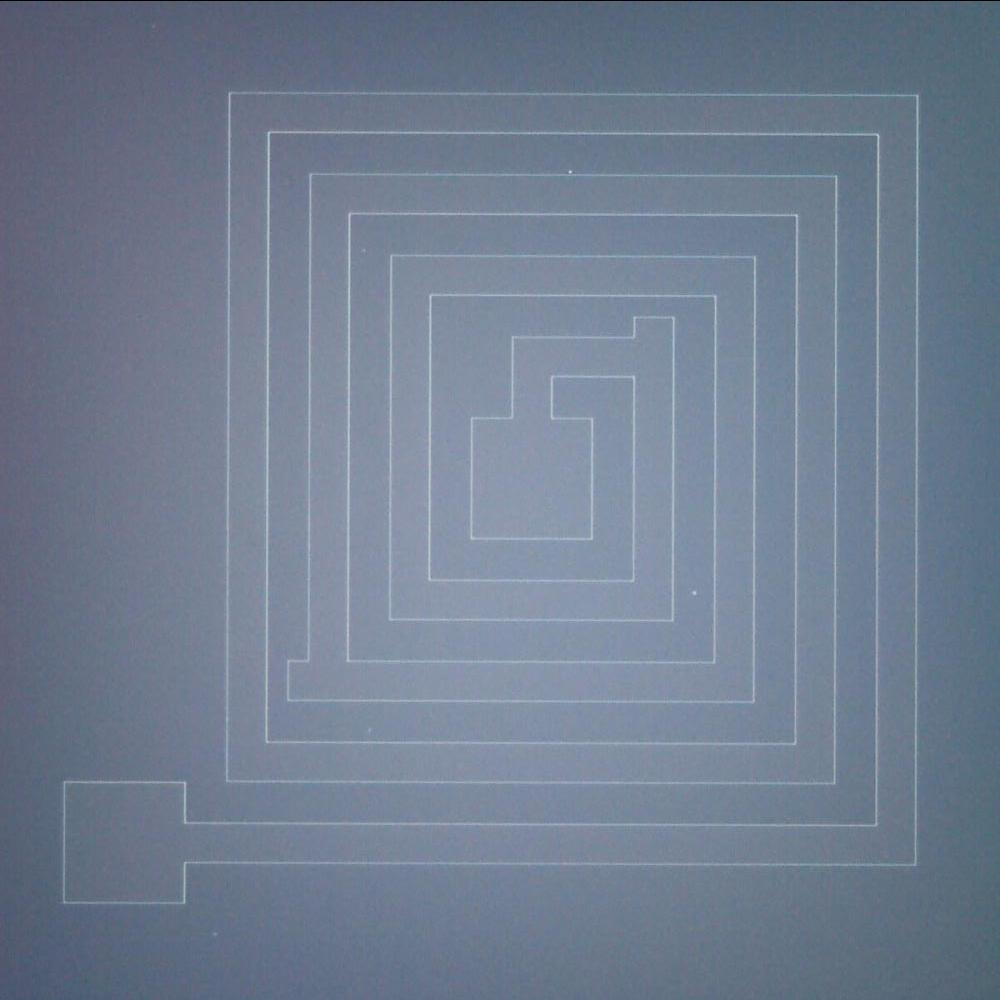budge circuit: (277, 646, 324, 706), (618, 310, 688, 347)
dot: (677, 580, 710, 606)
